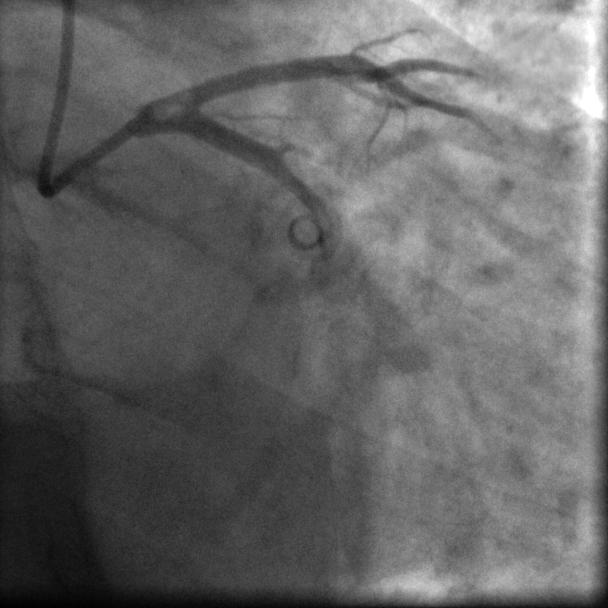Stenosis: (275, 139, 302, 158)
